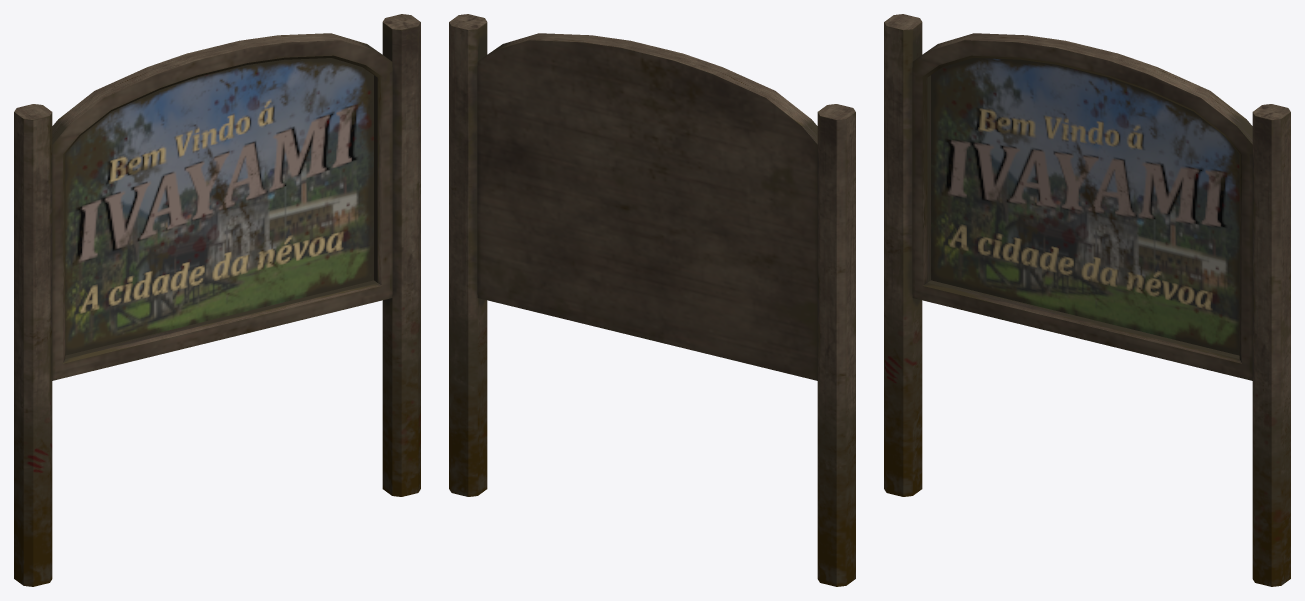
The model's file is Welcome Sign .fbx.
3 renders of one model, left to right at view 1: azimuth 30°, elevation 25°; view 2: azimuth 150°, elevation 25°; view 3: azimuth 330°, elevation 25°, orthographic.
Parts seen in each view (by area): view 1: Cube; view 2: Cube; view 3: Cube.
Part boxes in pixels (left/top/right/bottom): Cube: left=14, top=14, right=420, bottom=586; Cube: left=449, top=14, right=855, bottom=586; Cube: left=884, top=14, right=1290, bottom=586.
Bounding box in the file's own units: 244 × 283 × 17.63.
